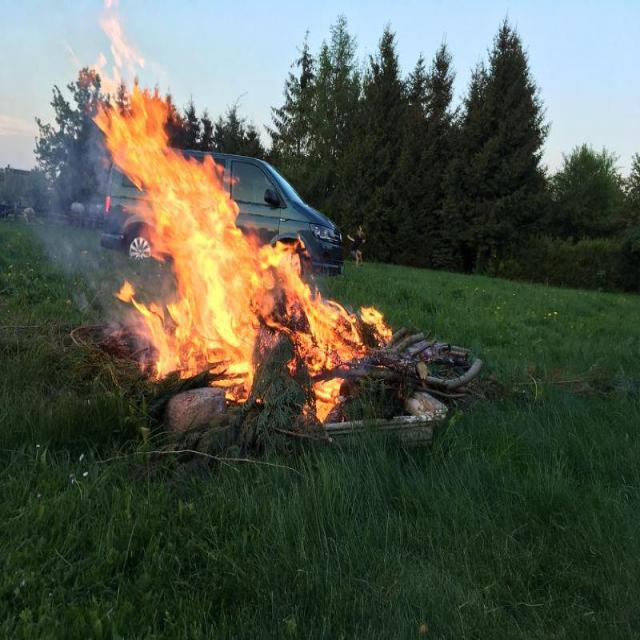fire: (93, 99, 387, 415)
